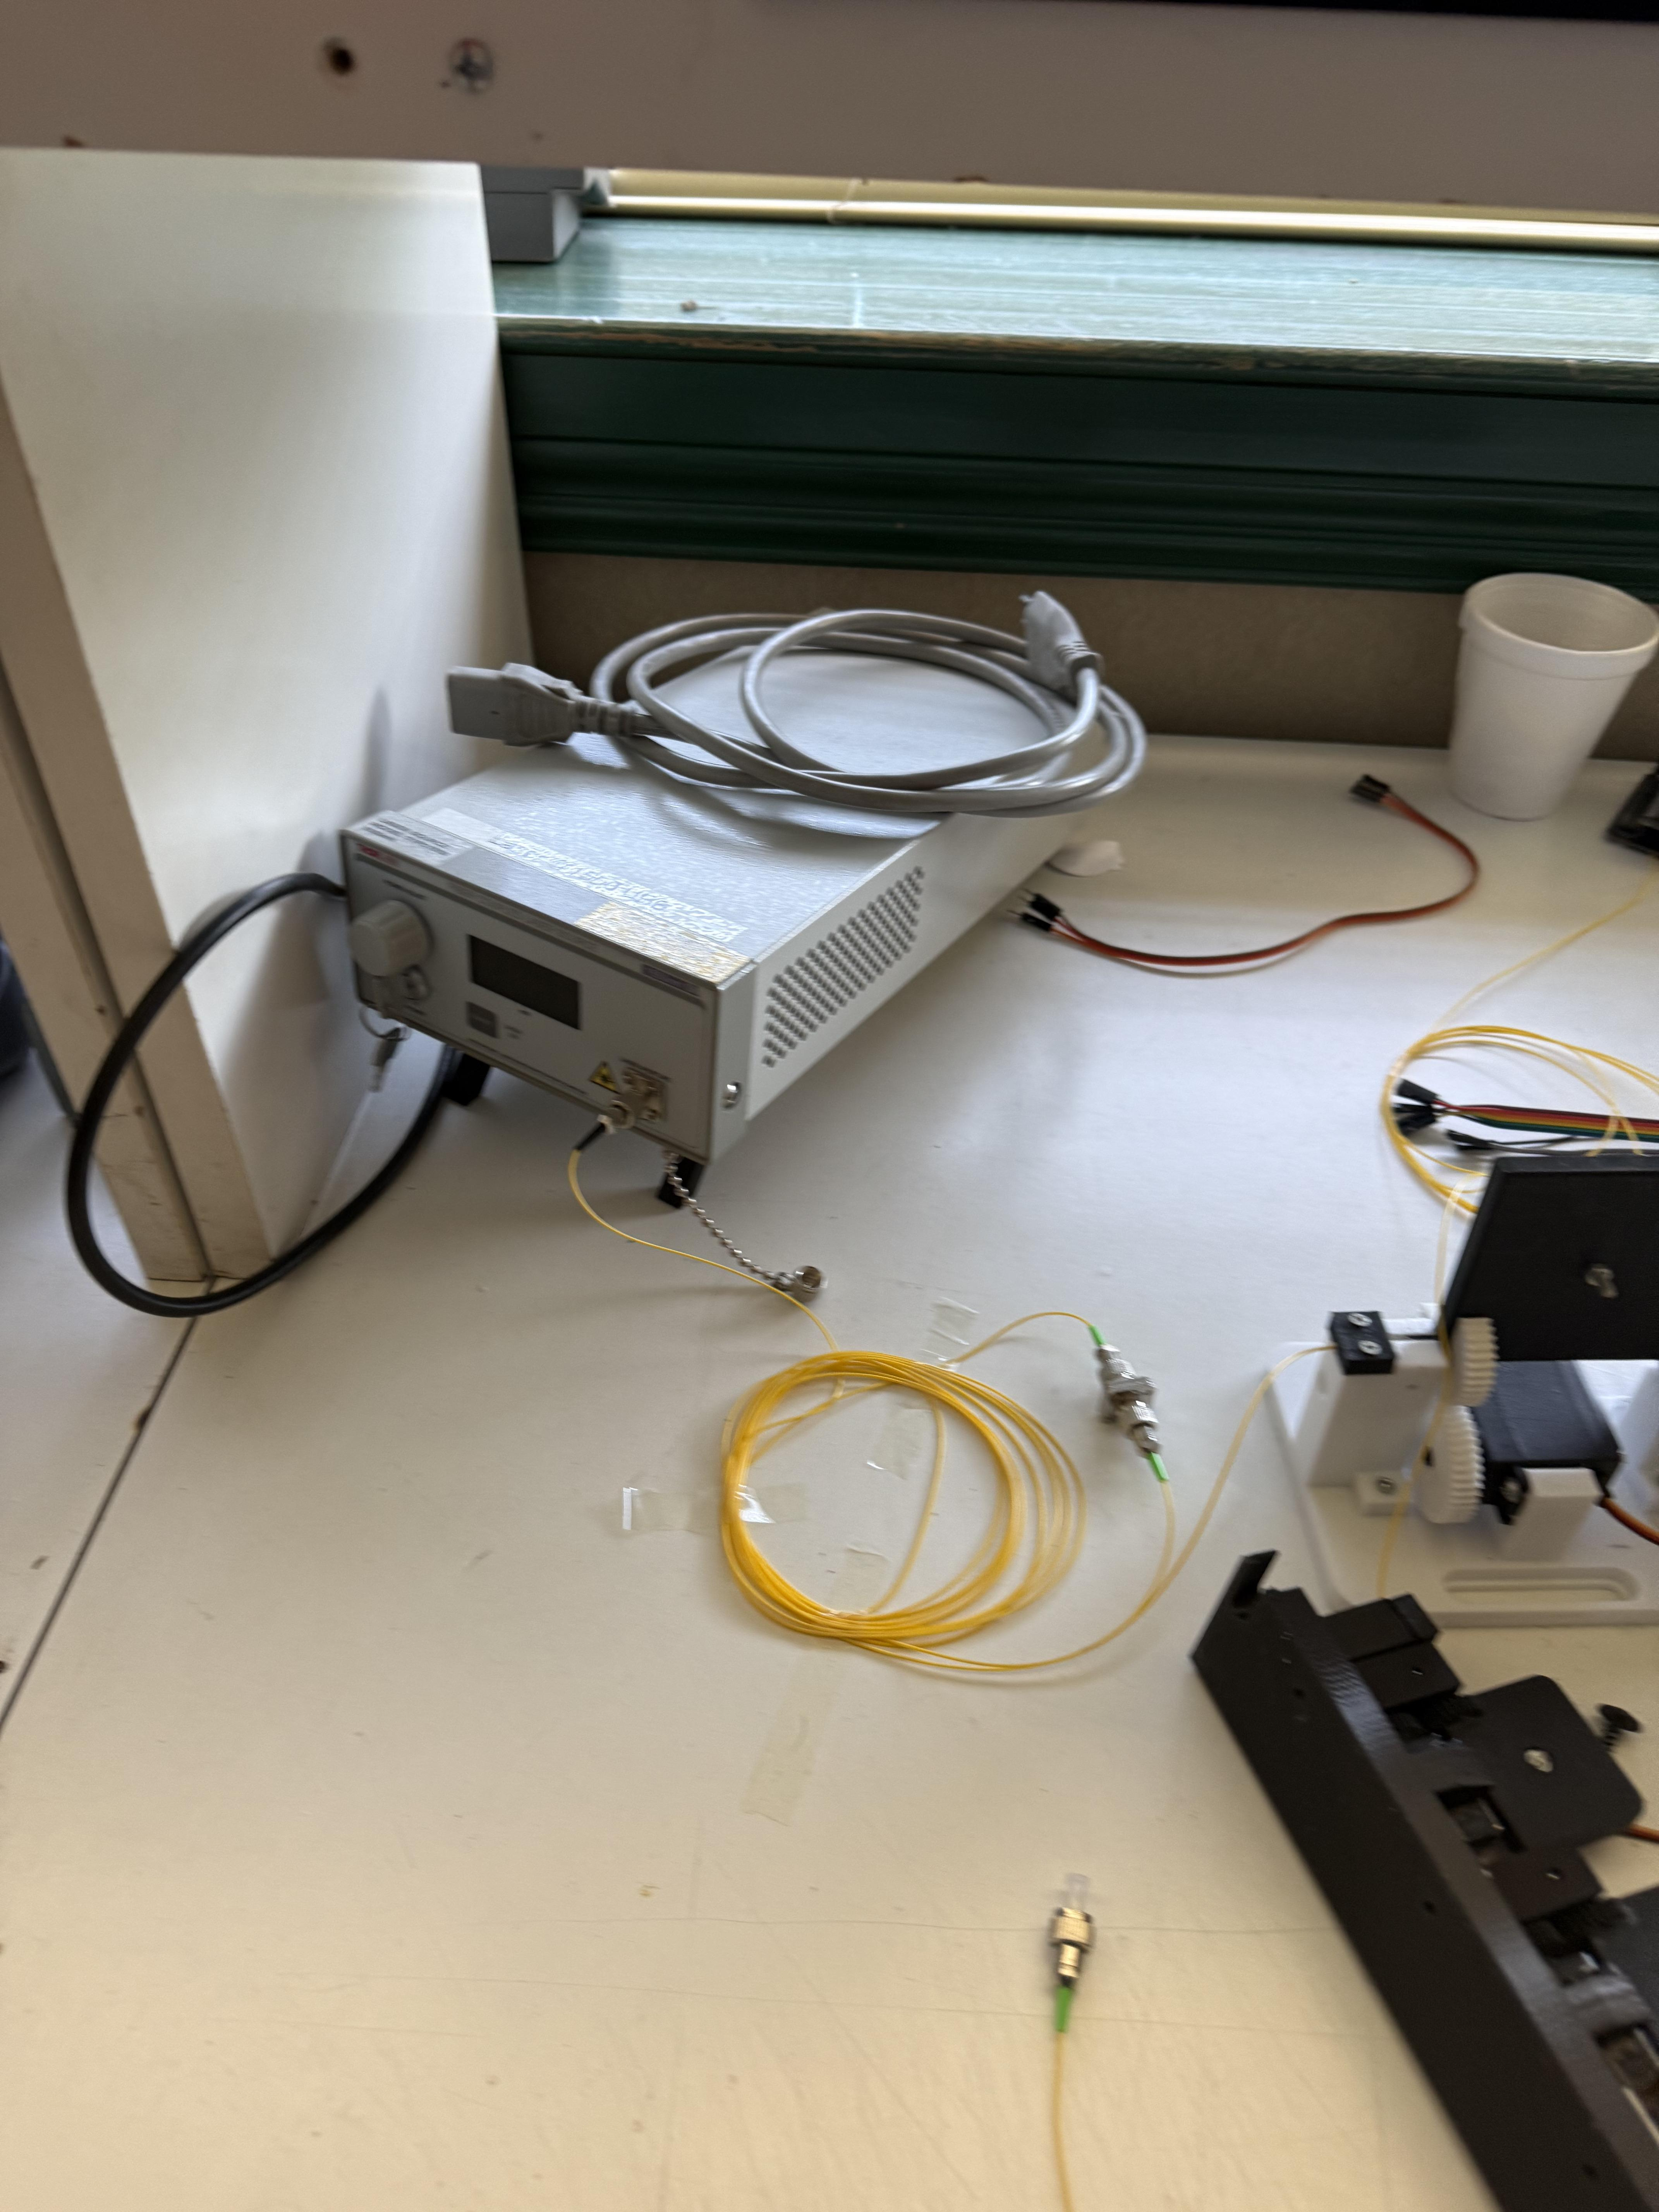laser: (310, 519, 1150, 1282)
paddle_polarization_controller: (1138, 1484, 1659, 2212), (1227, 1123, 1659, 1630)
